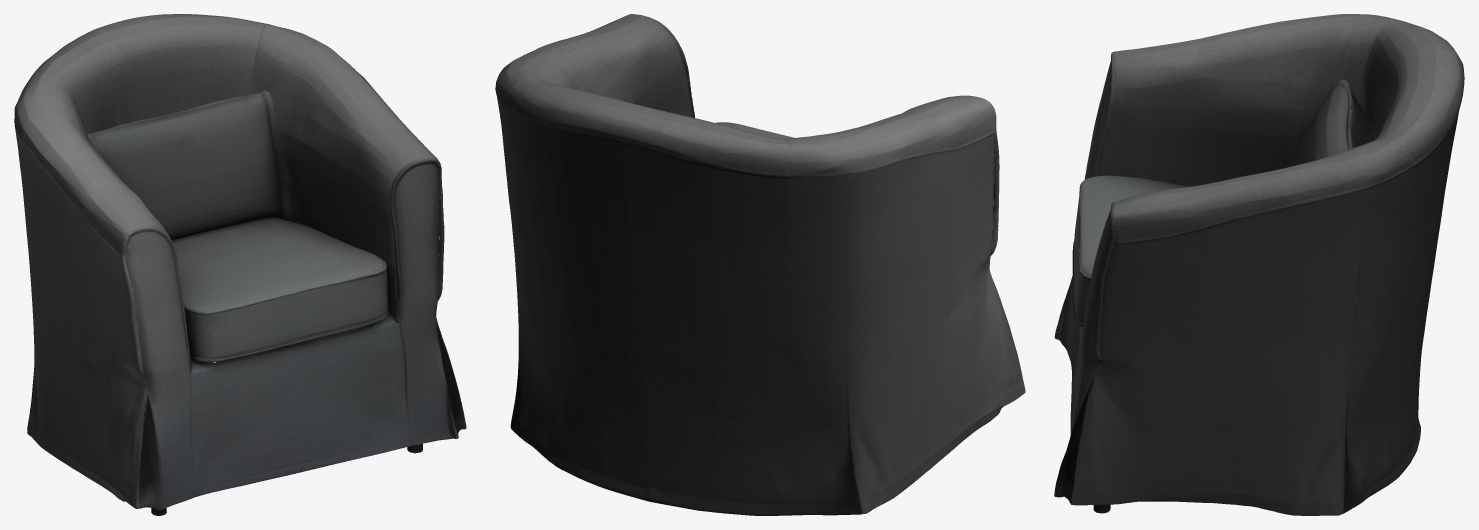
The model's file is armchairs_16239_image_9.glb.
The picture shows the model from 3 angles, left to right: view 1: azimuth 30°, elevation 25°; view 2: azimuth 150°, elevation 25°; view 3: azimuth 270°, elevation 25°; orthographic projection. The views are drawn at different scales.
Visible parts, largest first — view 1: world; view 2: world; view 3: world.
Boxes of the visible parts, x1,y1,x2,y2 form: world: (14,14,466,515); world: (495,14,1025,515); world: (1054,14,1464,515).
Bounding box in the file's own units: 0.9995 × 0.9946 × 0.9811.
1 material, 1 textured.
